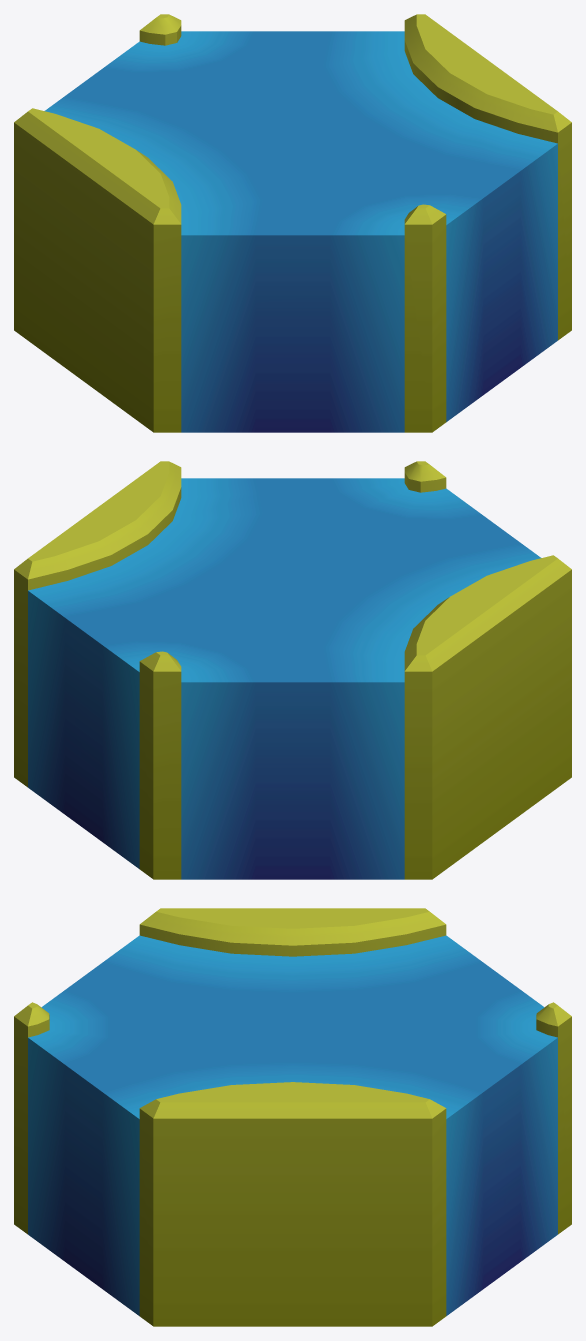
Rendered from kaykit-medieval-hexagon-pack-hex-river-i.glb.
The picture shows the model from 3 angles, top to bottom: view 1: azimuth 30°, elevation 25°; view 2: azimuth 150°, elevation 25°; view 3: azimuth 270°, elevation 25°; orthographic projection.
Parts seen in each view (by area): view 1: hex_river_I; view 2: hex_river_I; view 3: hex_river_I.
Part boxes in pixels (<box>): hex_river_I: <box>14,14,571,432</box>; hex_river_I: <box>14,461,571,879</box>; hex_river_I: <box>14,908,571,1326</box>.
Bounding box in the file's own units: 2 × 1 × 2.31.
1 material, 1 textured.
